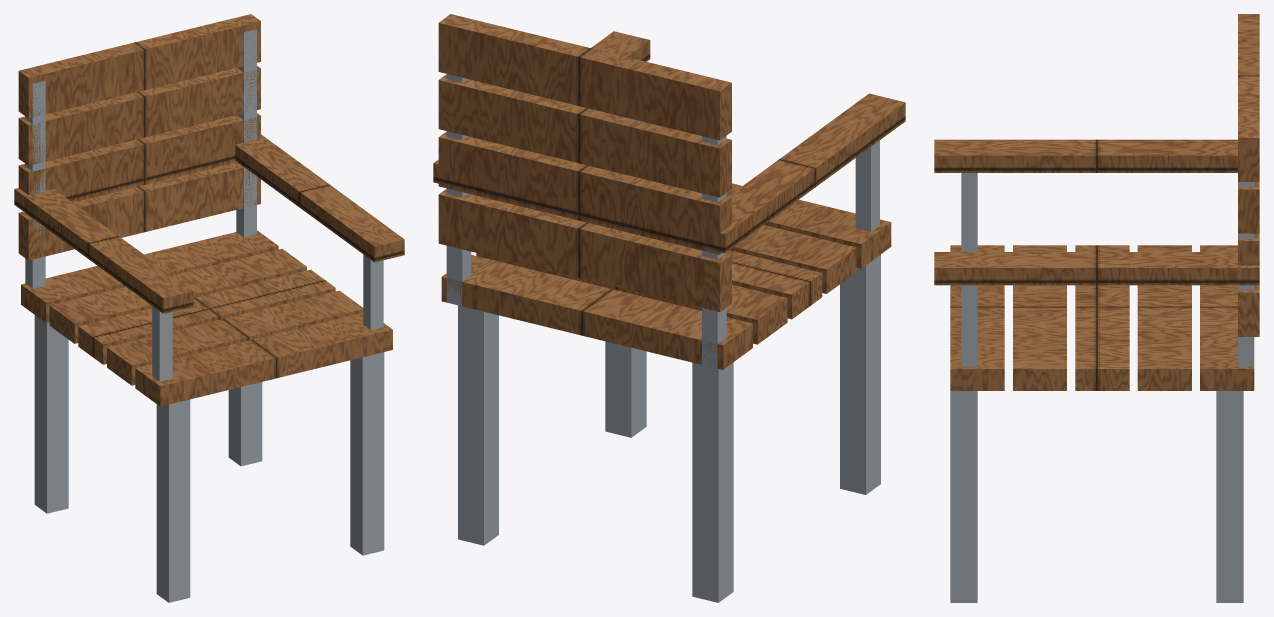
The model's file is Kerti_karosszek.obj.
3 renders of one model, left to right at view 1: azimuth 30°, elevation 25°; view 2: azimuth 150°, elevation 25°; view 3: azimuth 270°, elevation 25°, orthographic. The views are drawn at different scales.
Bounding box in the file's own units: 0.56 × 0.955 × 0.6.
Materials: 2 (1 with a texture image).
